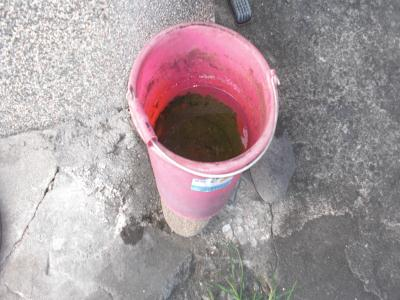bucket: (123, 17, 283, 221)
